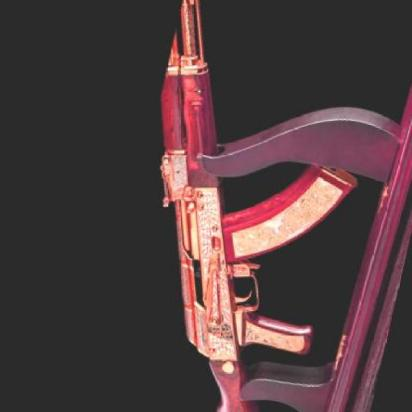Gun: (103, 26, 412, 412)
